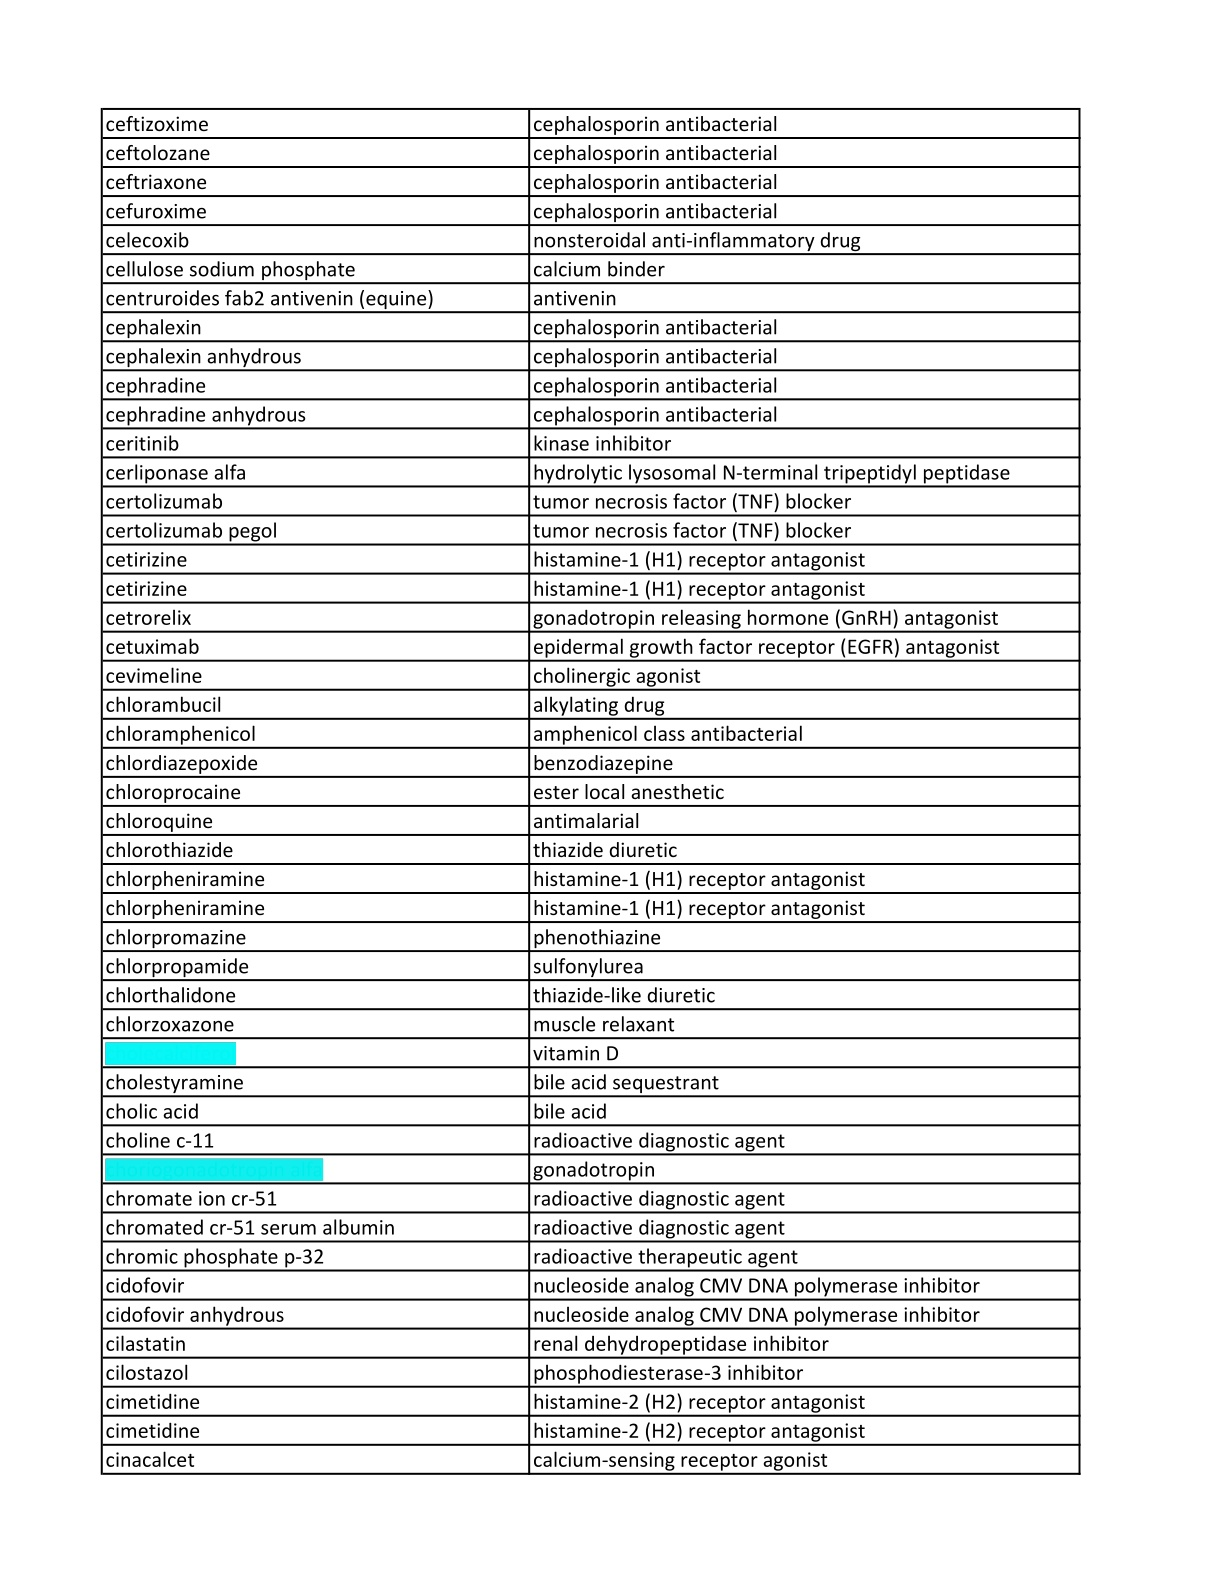full_lined: (96, 102, 1090, 1486)
